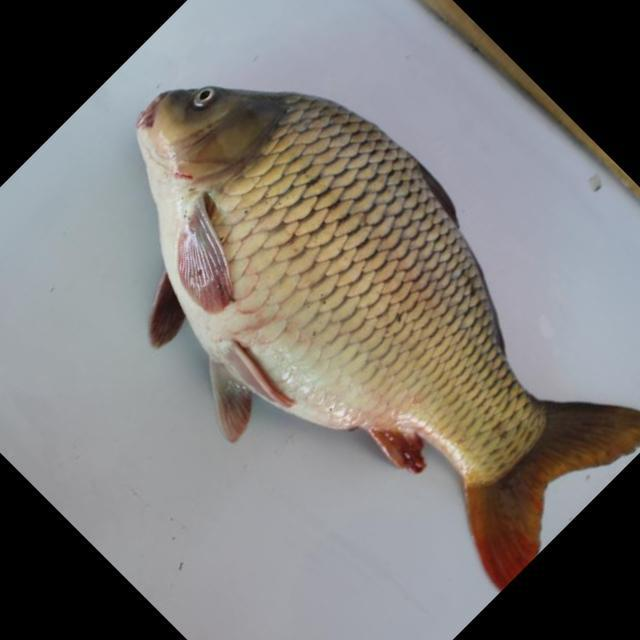CommonCarp: (133, 80, 640, 602)
